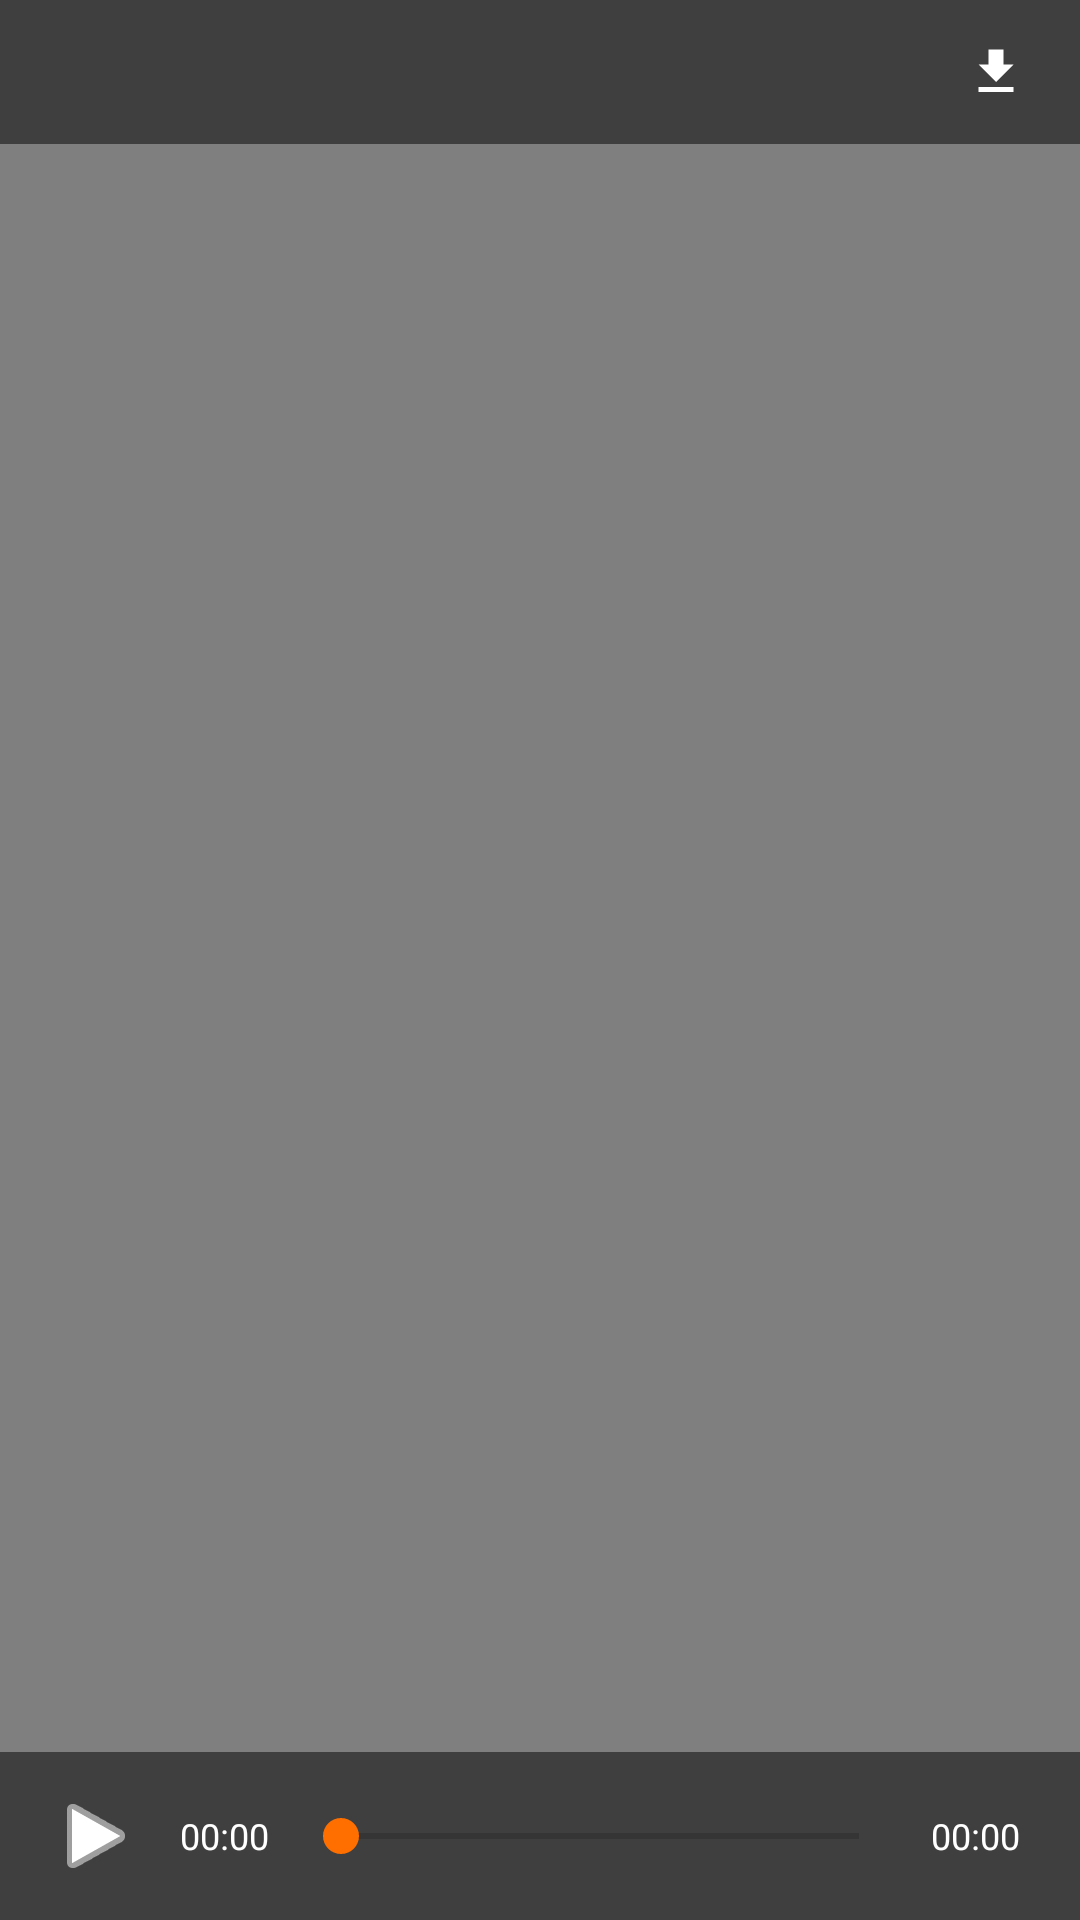

Point at icon controls on the screen. Image size 1080px x 1920px, points as (x=x, y=y).
下载: (x=996, y=70)
播放/暂停: (x=96, y=1836)
